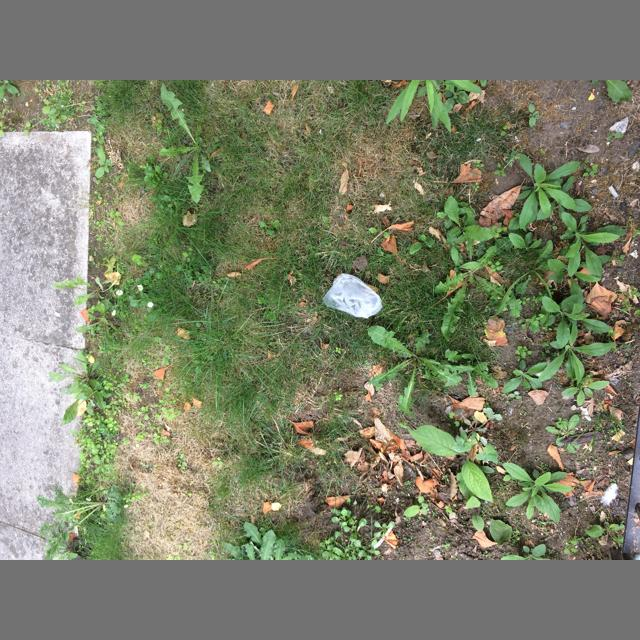litter: (323, 273, 382, 319)
